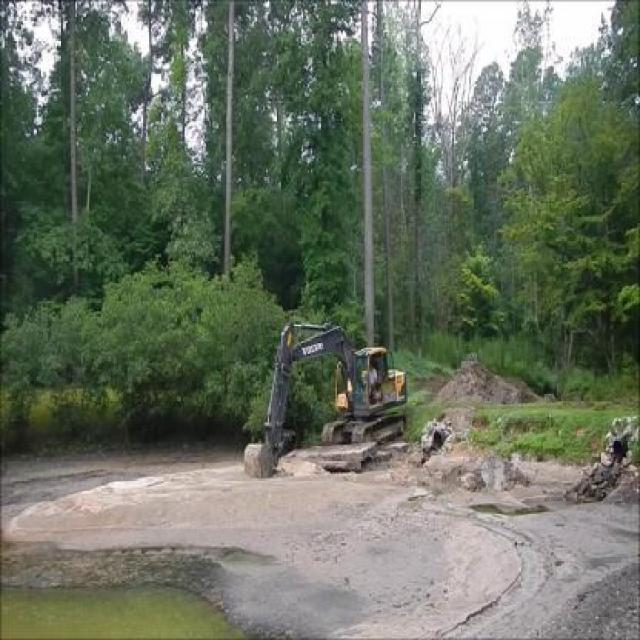Excavator: (242, 320, 408, 482)
